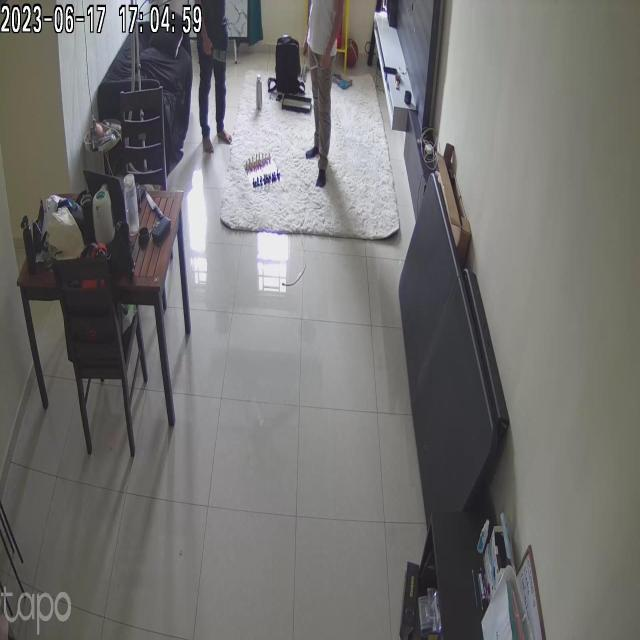Knife: (204, 36, 238, 79)
